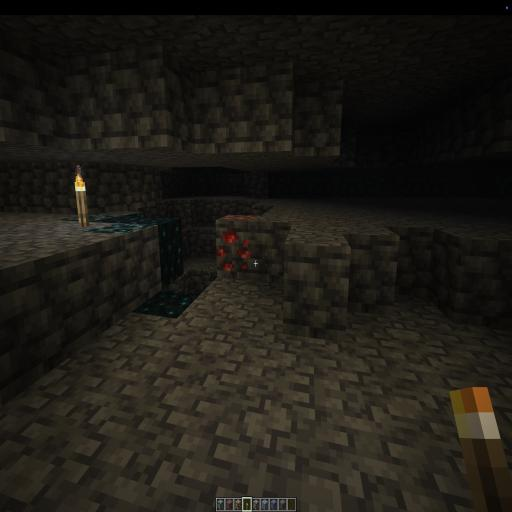redstone ore: (211, 210, 257, 281)
